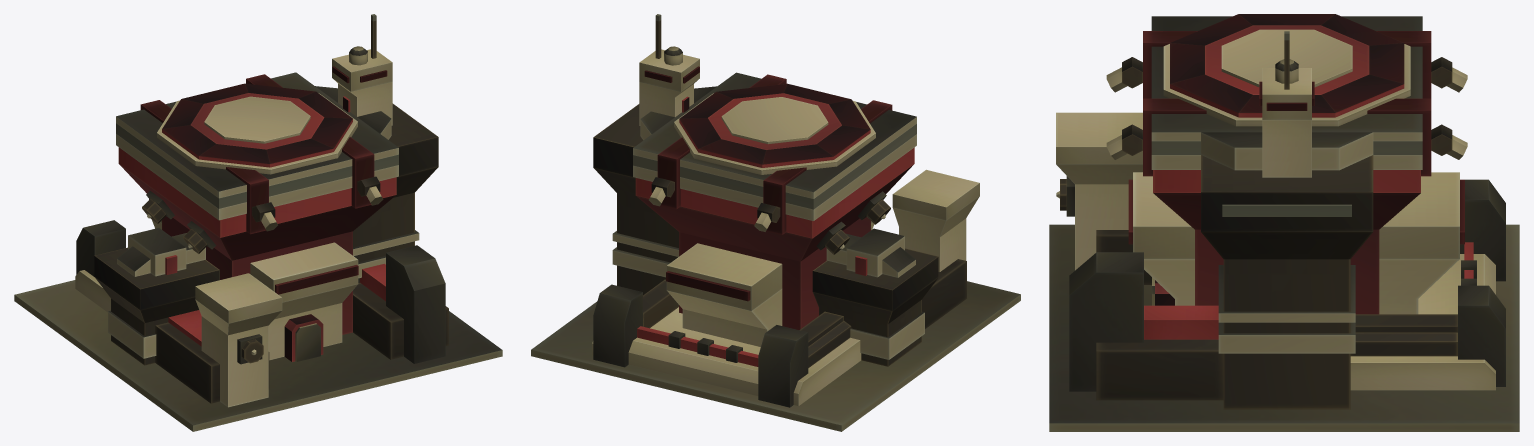
The model's file is struct_Headquarters_Harnok_A.FBX.
3 renders of one model, left to right at view 1: azimuth 30°, elevation 25°; view 2: azimuth 150°, elevation 25°; view 3: azimuth 270°, elevation 25°, orthographic. The views are drawn at different scales.
Visible parts, largest first — view 1: struct_Headquarters_Harnok_A; view 2: struct_Headquarters_Harnok_A; view 3: struct_Headquarters_Harnok_A.
Boxes of the visible parts, x1,y1,x2,y2 form: struct_Headquarters_Harnok_A: [14, 14, 502, 431]; struct_Headquarters_Harnok_A: [531, 14, 1020, 431]; struct_Headquarters_Harnok_A: [1049, 14, 1519, 431].
Bounding box in the file's own units: 1000 × 879 × 1000.
